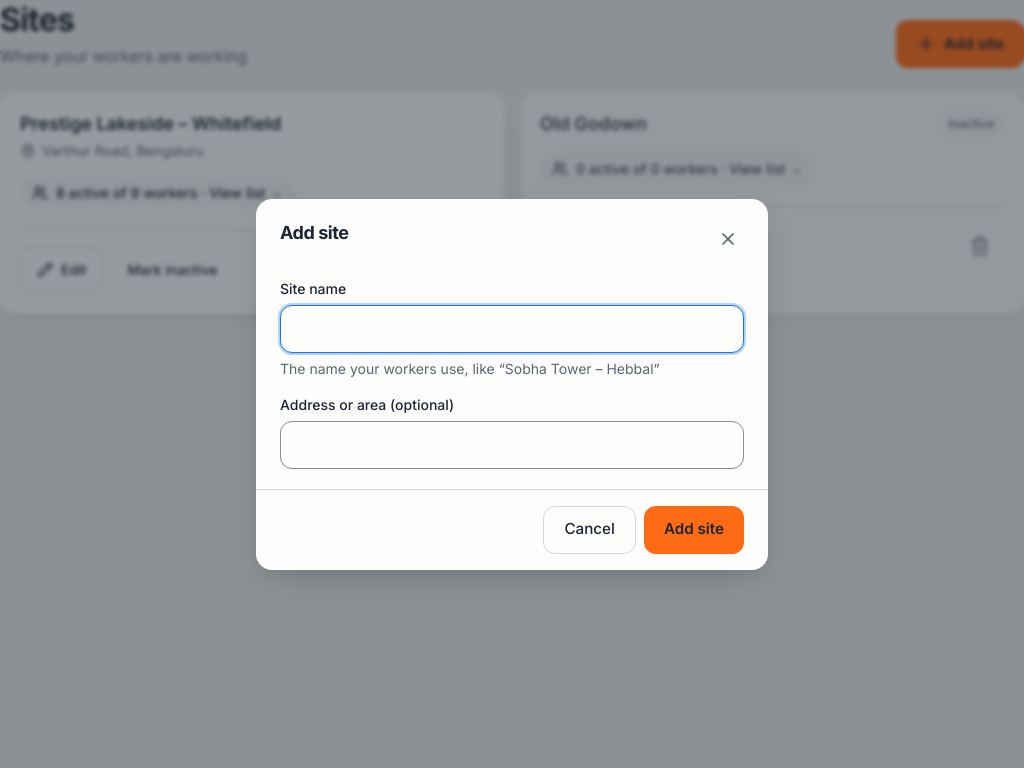
it: SitesPage › shows the server's duplicate-name message under the name
Type "Prestige Lakeside – Whitefield" into the field labelled "Site name".
click(512, 328); type("Prestige Lakeside – Whitefield")  # box [280,304,744,352]
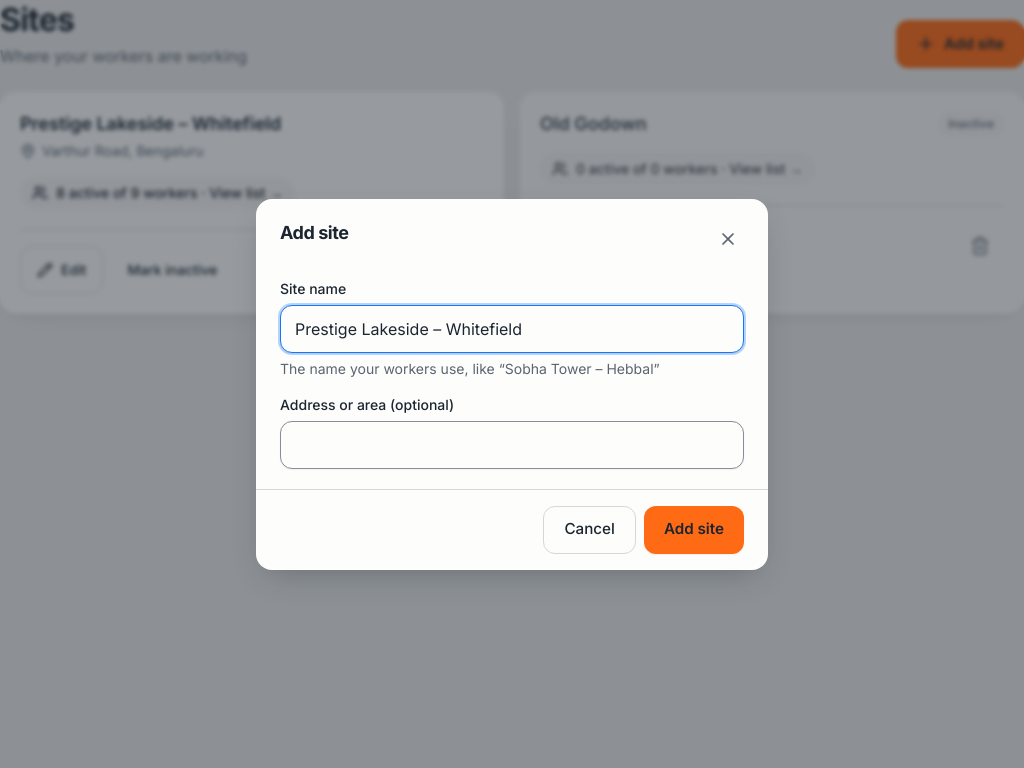
Click the button "Add site".
click(694, 530)  # box [644,506,744,554]
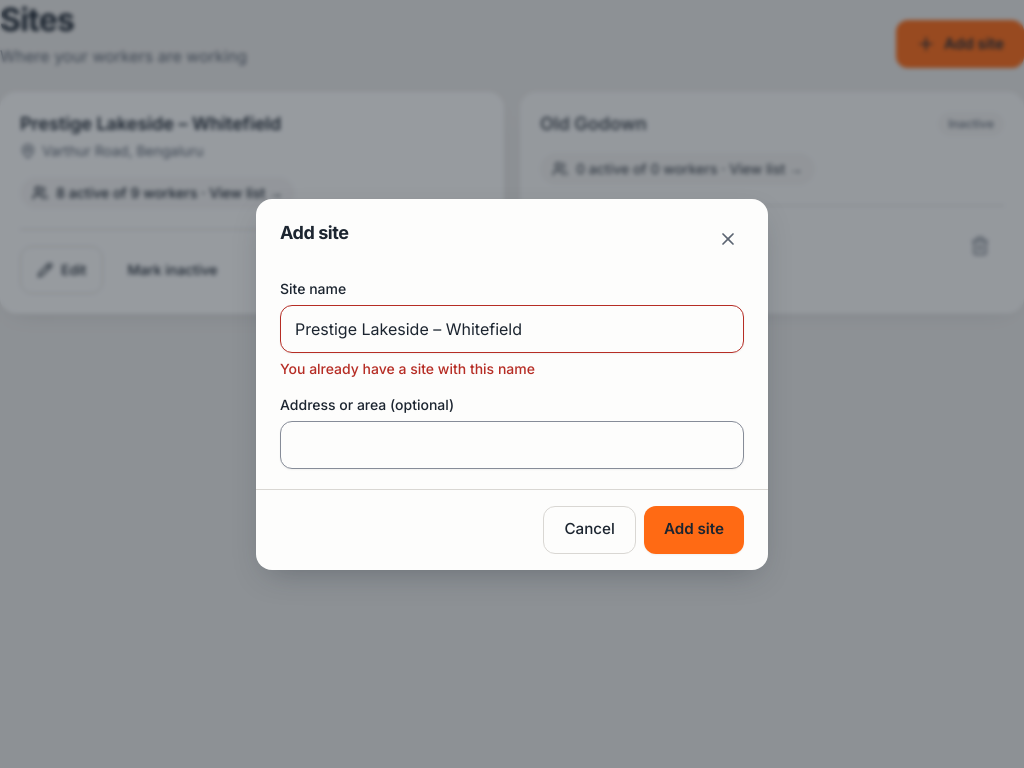
Check: the text "You already have a site with this name" is shown, box [280,360,535,376]
